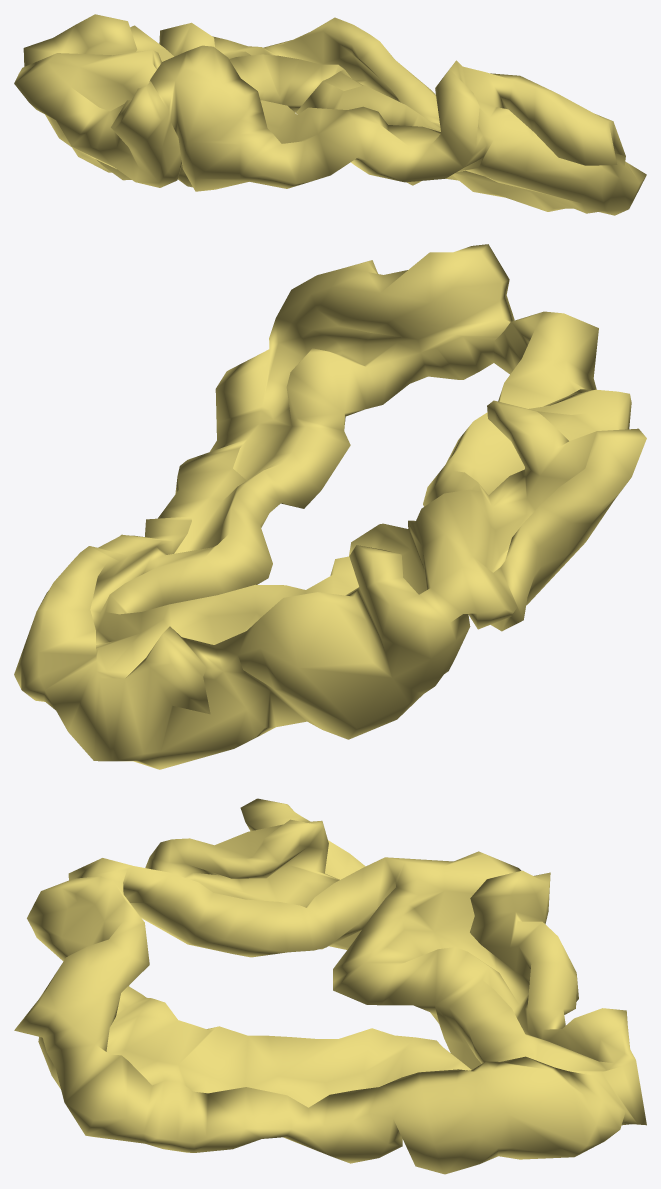
File: orbital-gyri-r.glb
3 renders of one model, top to bottom at view 1: azimuth 30°, elevation 25°; view 2: azimuth 150°, elevation 25°; view 3: azimuth 270°, elevation 25°, orthographic. The views are drawn at different scales.
Visible parts, largest first — view 1: Orbital gyri.r; view 2: Orbital gyri.r; view 3: Orbital gyri.r.
Boxes of the visible parts, left/top/right/bottom form: Orbital gyri.r: left=14, top=14, right=646, bottom=215; Orbital gyri.r: left=14, top=244, right=646, bottom=769; Orbital gyri.r: left=14, top=798, right=646, bottom=1174.
Bounding box in the file's own units: 0.0487 × 0.0272 × 0.0614.
